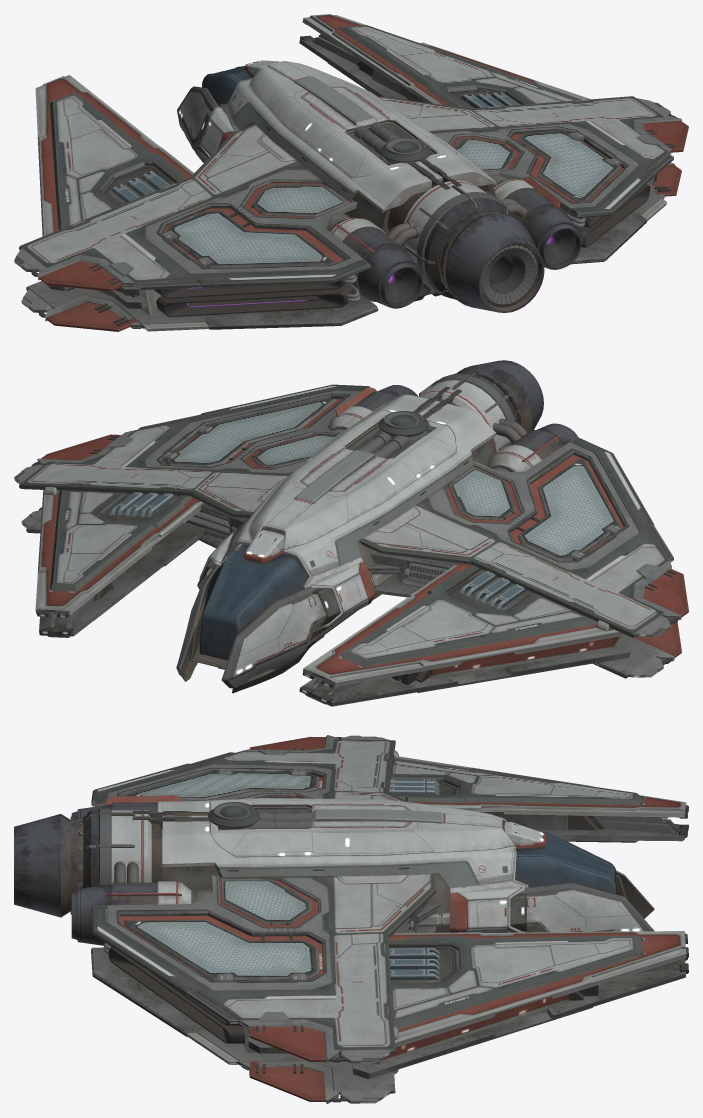
File: lightfighter_yflip.glb
3 views of the same model, one above another, from view 1: azimuth 30°, elevation 25°; view 2: azimuth 150°, elevation 25°; view 3: azimuth 270°, elevation 25° (orthographic). The views are drawn at different scales.
Parts seen in each view (by area): view 1: Cube.003, Cube.010; view 2: Cube.003, Cube.010; view 3: Cube.003, Cube.010.
Boxes of the visible parts, x1=… form: Cube.003: x1=14, y1=14, x2=688, y2=331; Cube.010: x1=177, y1=60, x2=581, y2=312; Cube.003: x1=14, y1=384, x2=688, y2=706; Cube.010: x1=176, y1=360, x2=577, y2=693; Cube.003: x1=91, y1=735, x2=688, y2=1103; Cube.010: x1=14, y1=795, x2=654, y2=945.
Bounding box in the file's own units: 12.27 × 2.46 × 10.78.
2 materials, 2 textured.
